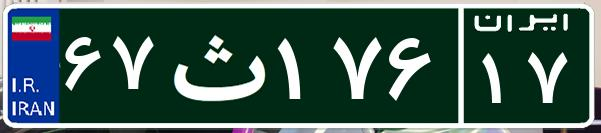1: (273, 28, 330, 110), (475, 38, 525, 113)
6: (385, 28, 445, 110), (57, 26, 110, 107)
7: (330, 28, 385, 110), (110, 28, 158, 105), (525, 38, 570, 115)
ث: (158, 15, 273, 115)
